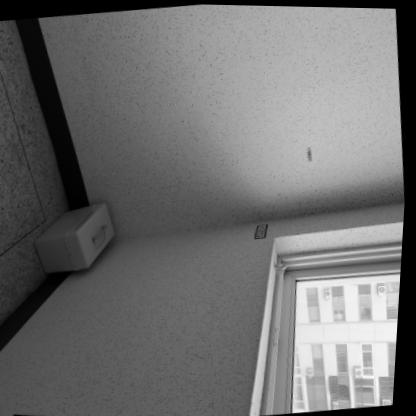DDL: (30, 200, 122, 276)
